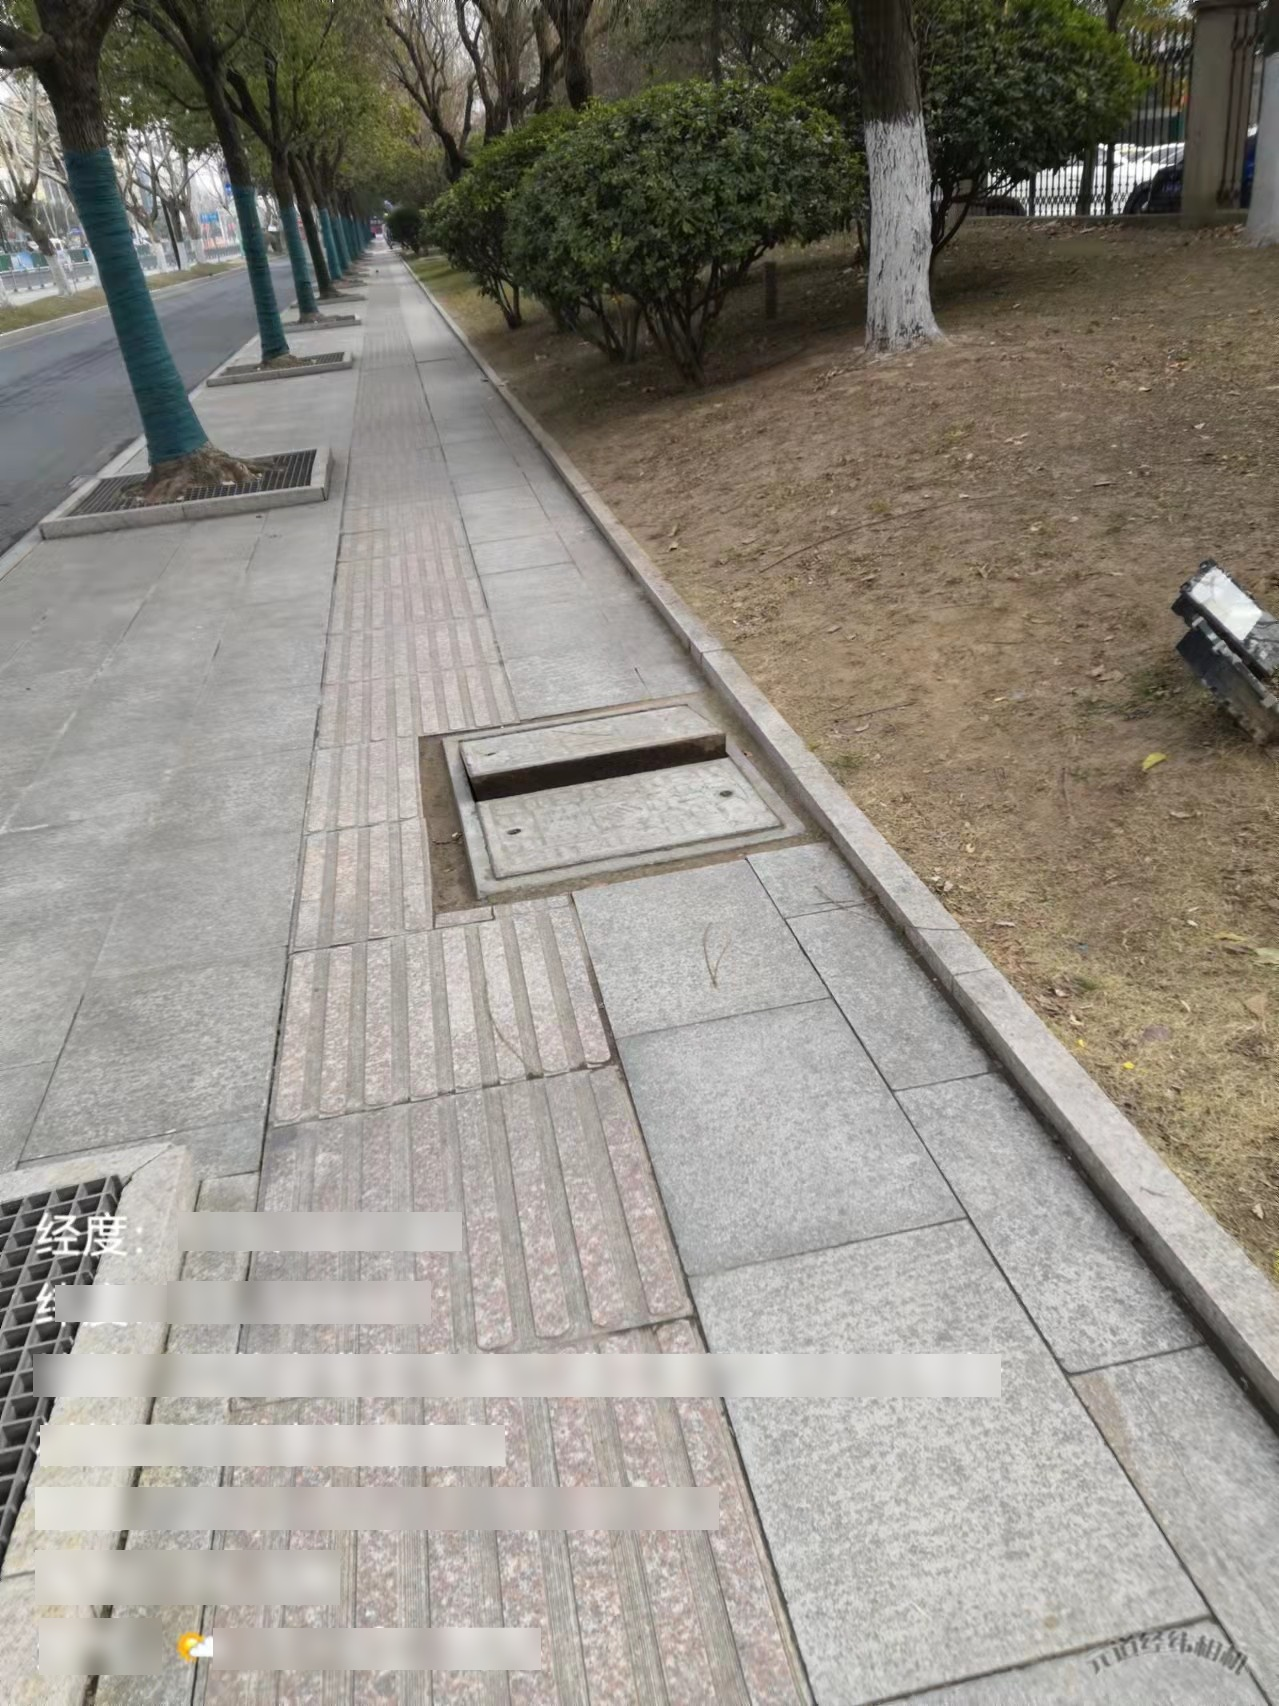uncovered: (433, 699, 801, 901)
